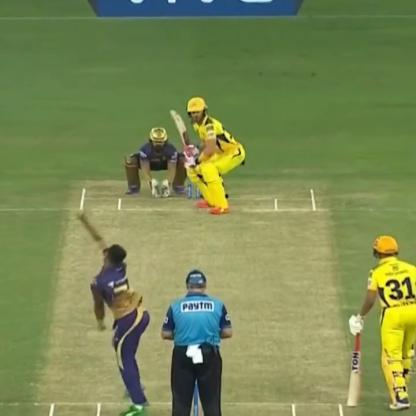bat: (163, 105, 204, 164), (341, 318, 367, 410)
pitch: (46, 173, 347, 415)
